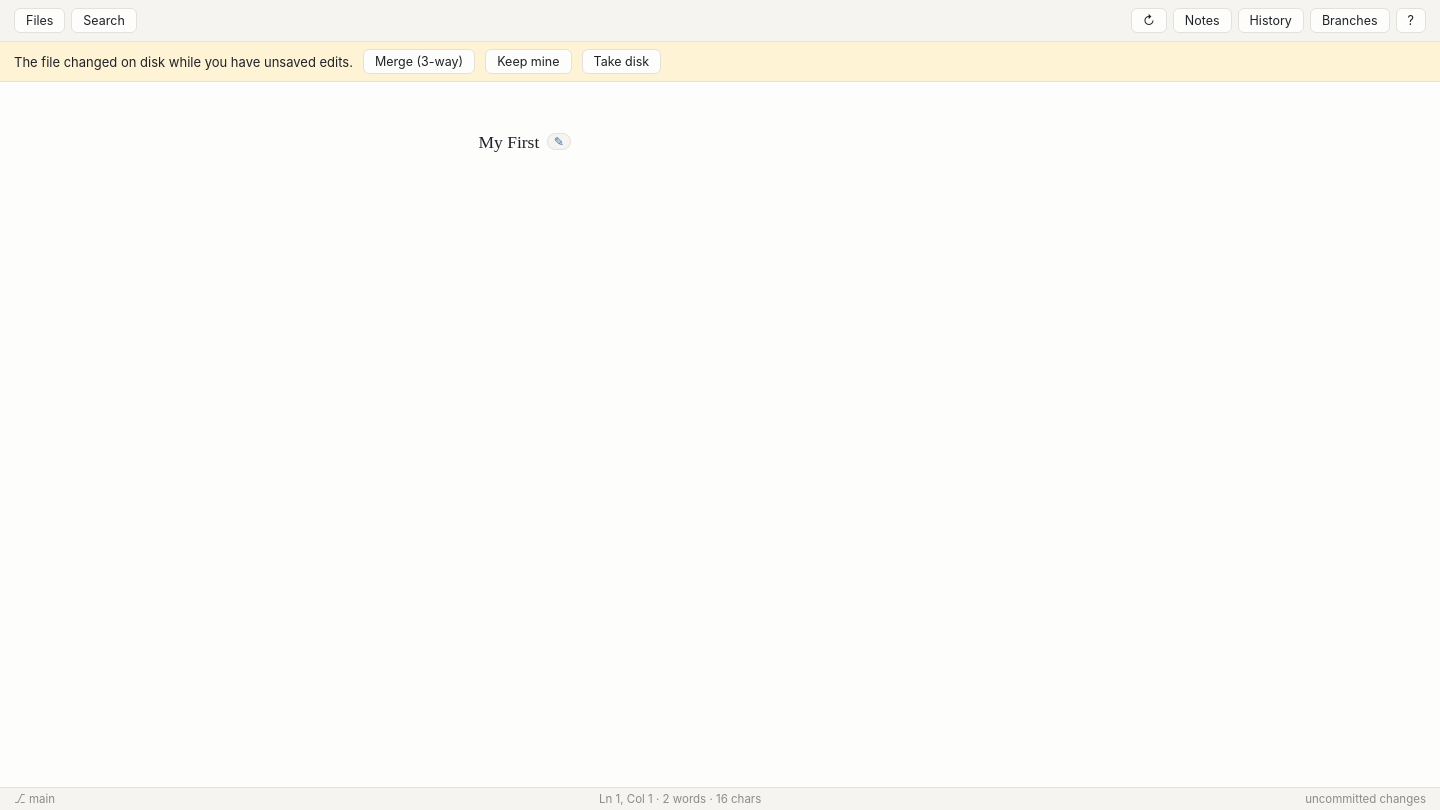
Test case: resolves a disk conflict with Take disk
Step 1. Click the button "Take disk" → (621, 62), box [582, 49, 661, 74]
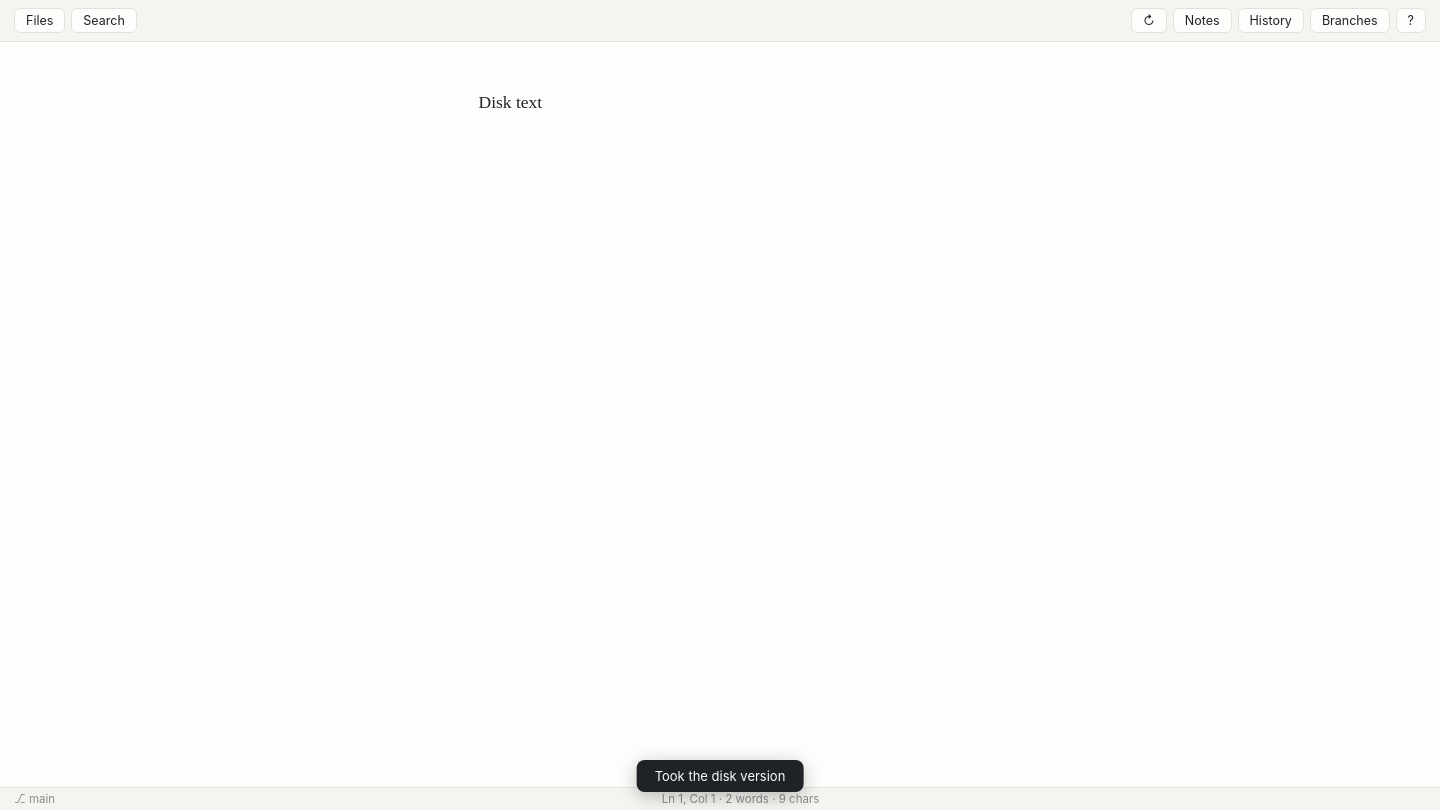
Expected: the text box labelled "Disk text" is shown, [478, 92, 542, 112]
Expected: the element with class "warning" is gone
